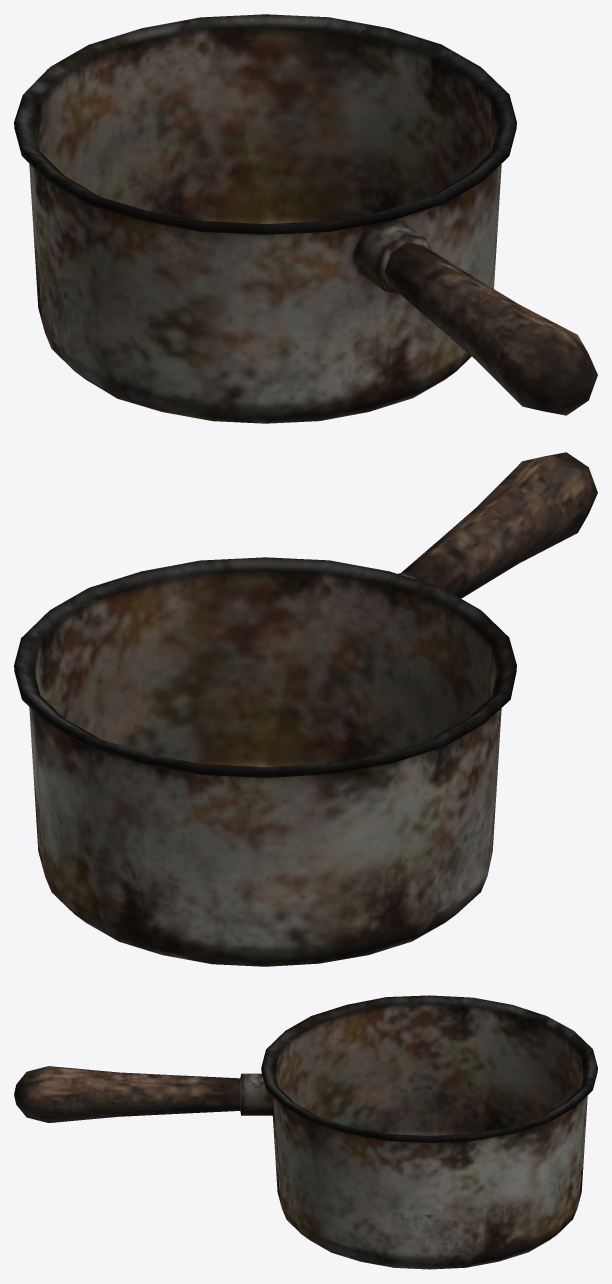
The model's file is UDKS_03.fbx.
3 renders of one model, top to bottom at view 1: azimuth 30°, elevation 25°; view 2: azimuth 150°, elevation 25°; view 3: azimuth 270°, elevation 25°, orthographic. The views are drawn at different scales.
Parts seen in each view (by area): view 1: UDKS_03; view 2: UDKS_03; view 3: UDKS_03.
Boxes of the visible parts, bbox=[...] form: UDKS_03: bbox=[14, 14, 597, 423]; UDKS_03: bbox=[14, 452, 597, 966]; UDKS_03: bbox=[14, 995, 597, 1269].
Bounding box in the file's own units: 21.35 × 10.17 × 37.03.
1 material, 1 textured.
